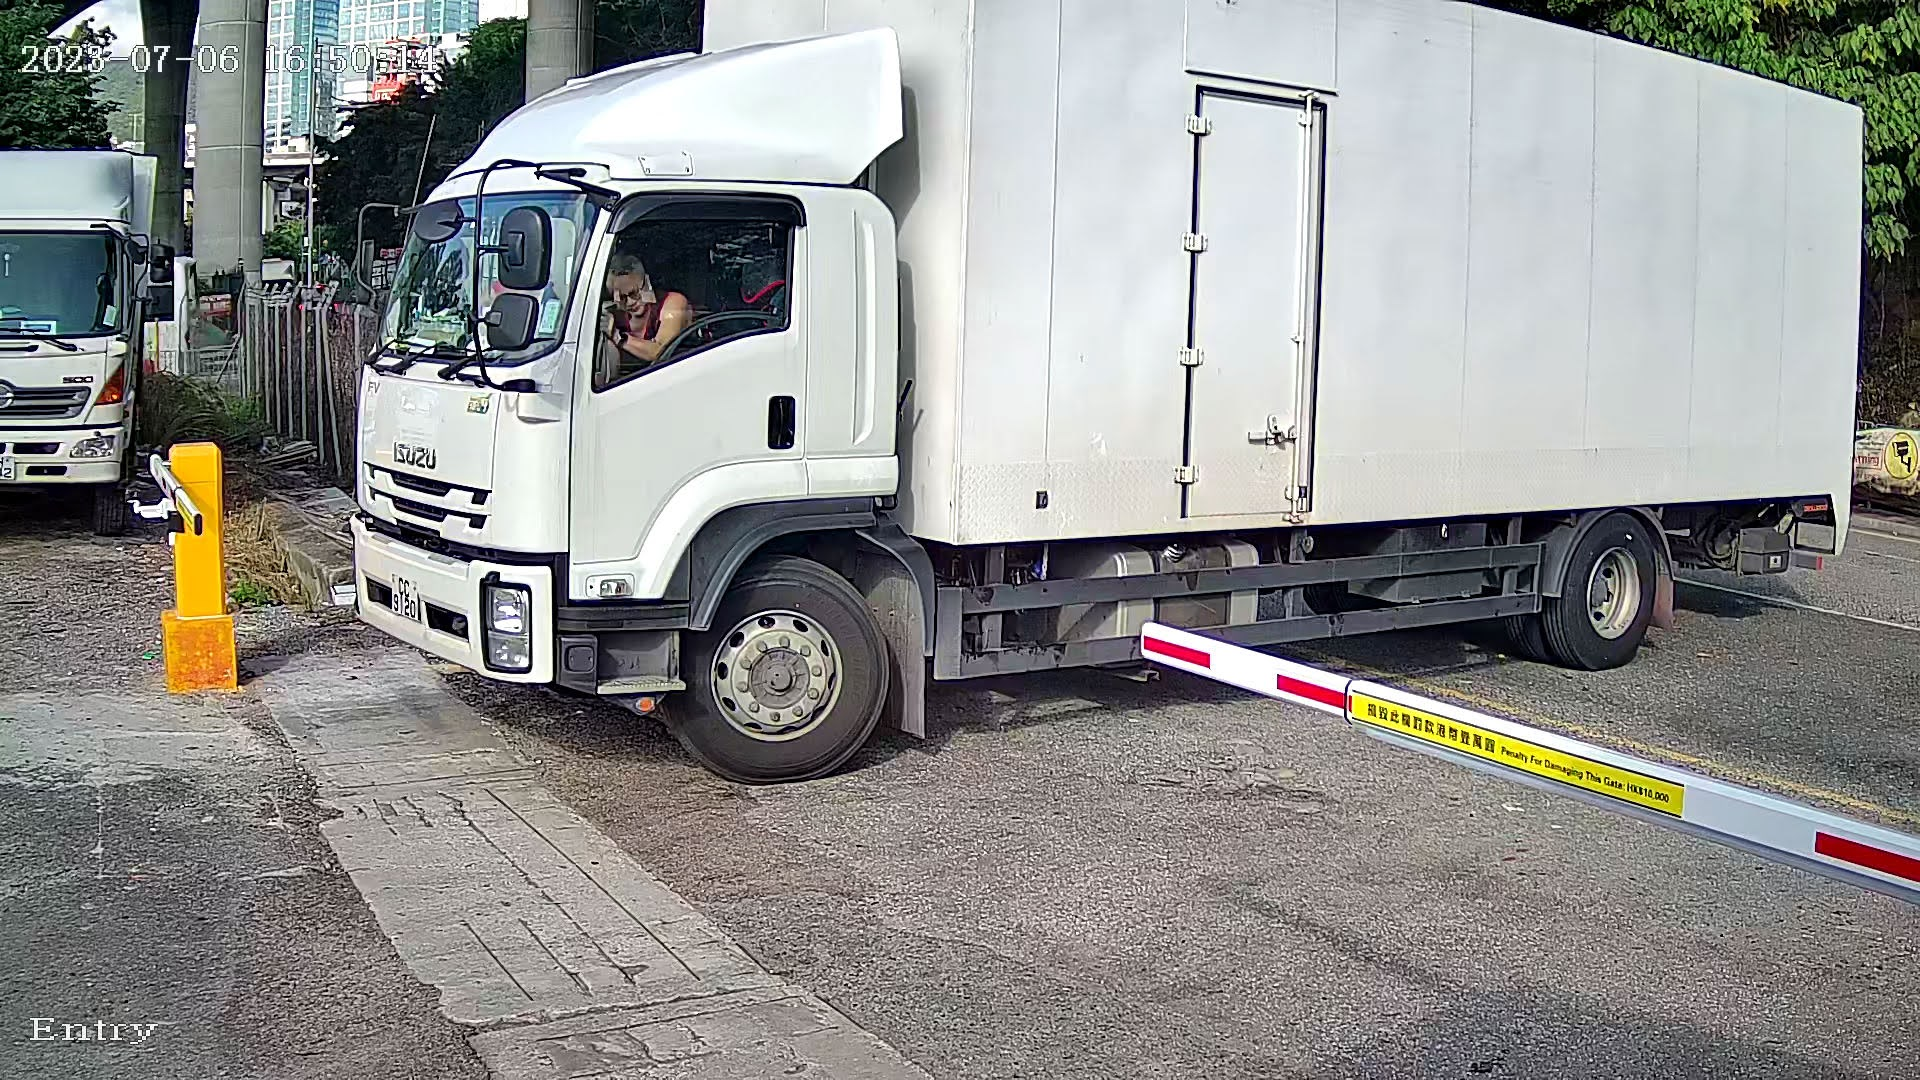truck: (327, 1, 1894, 810)
